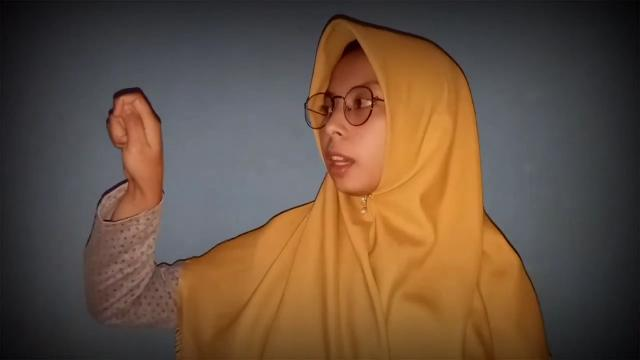T: (107, 90, 165, 192)
